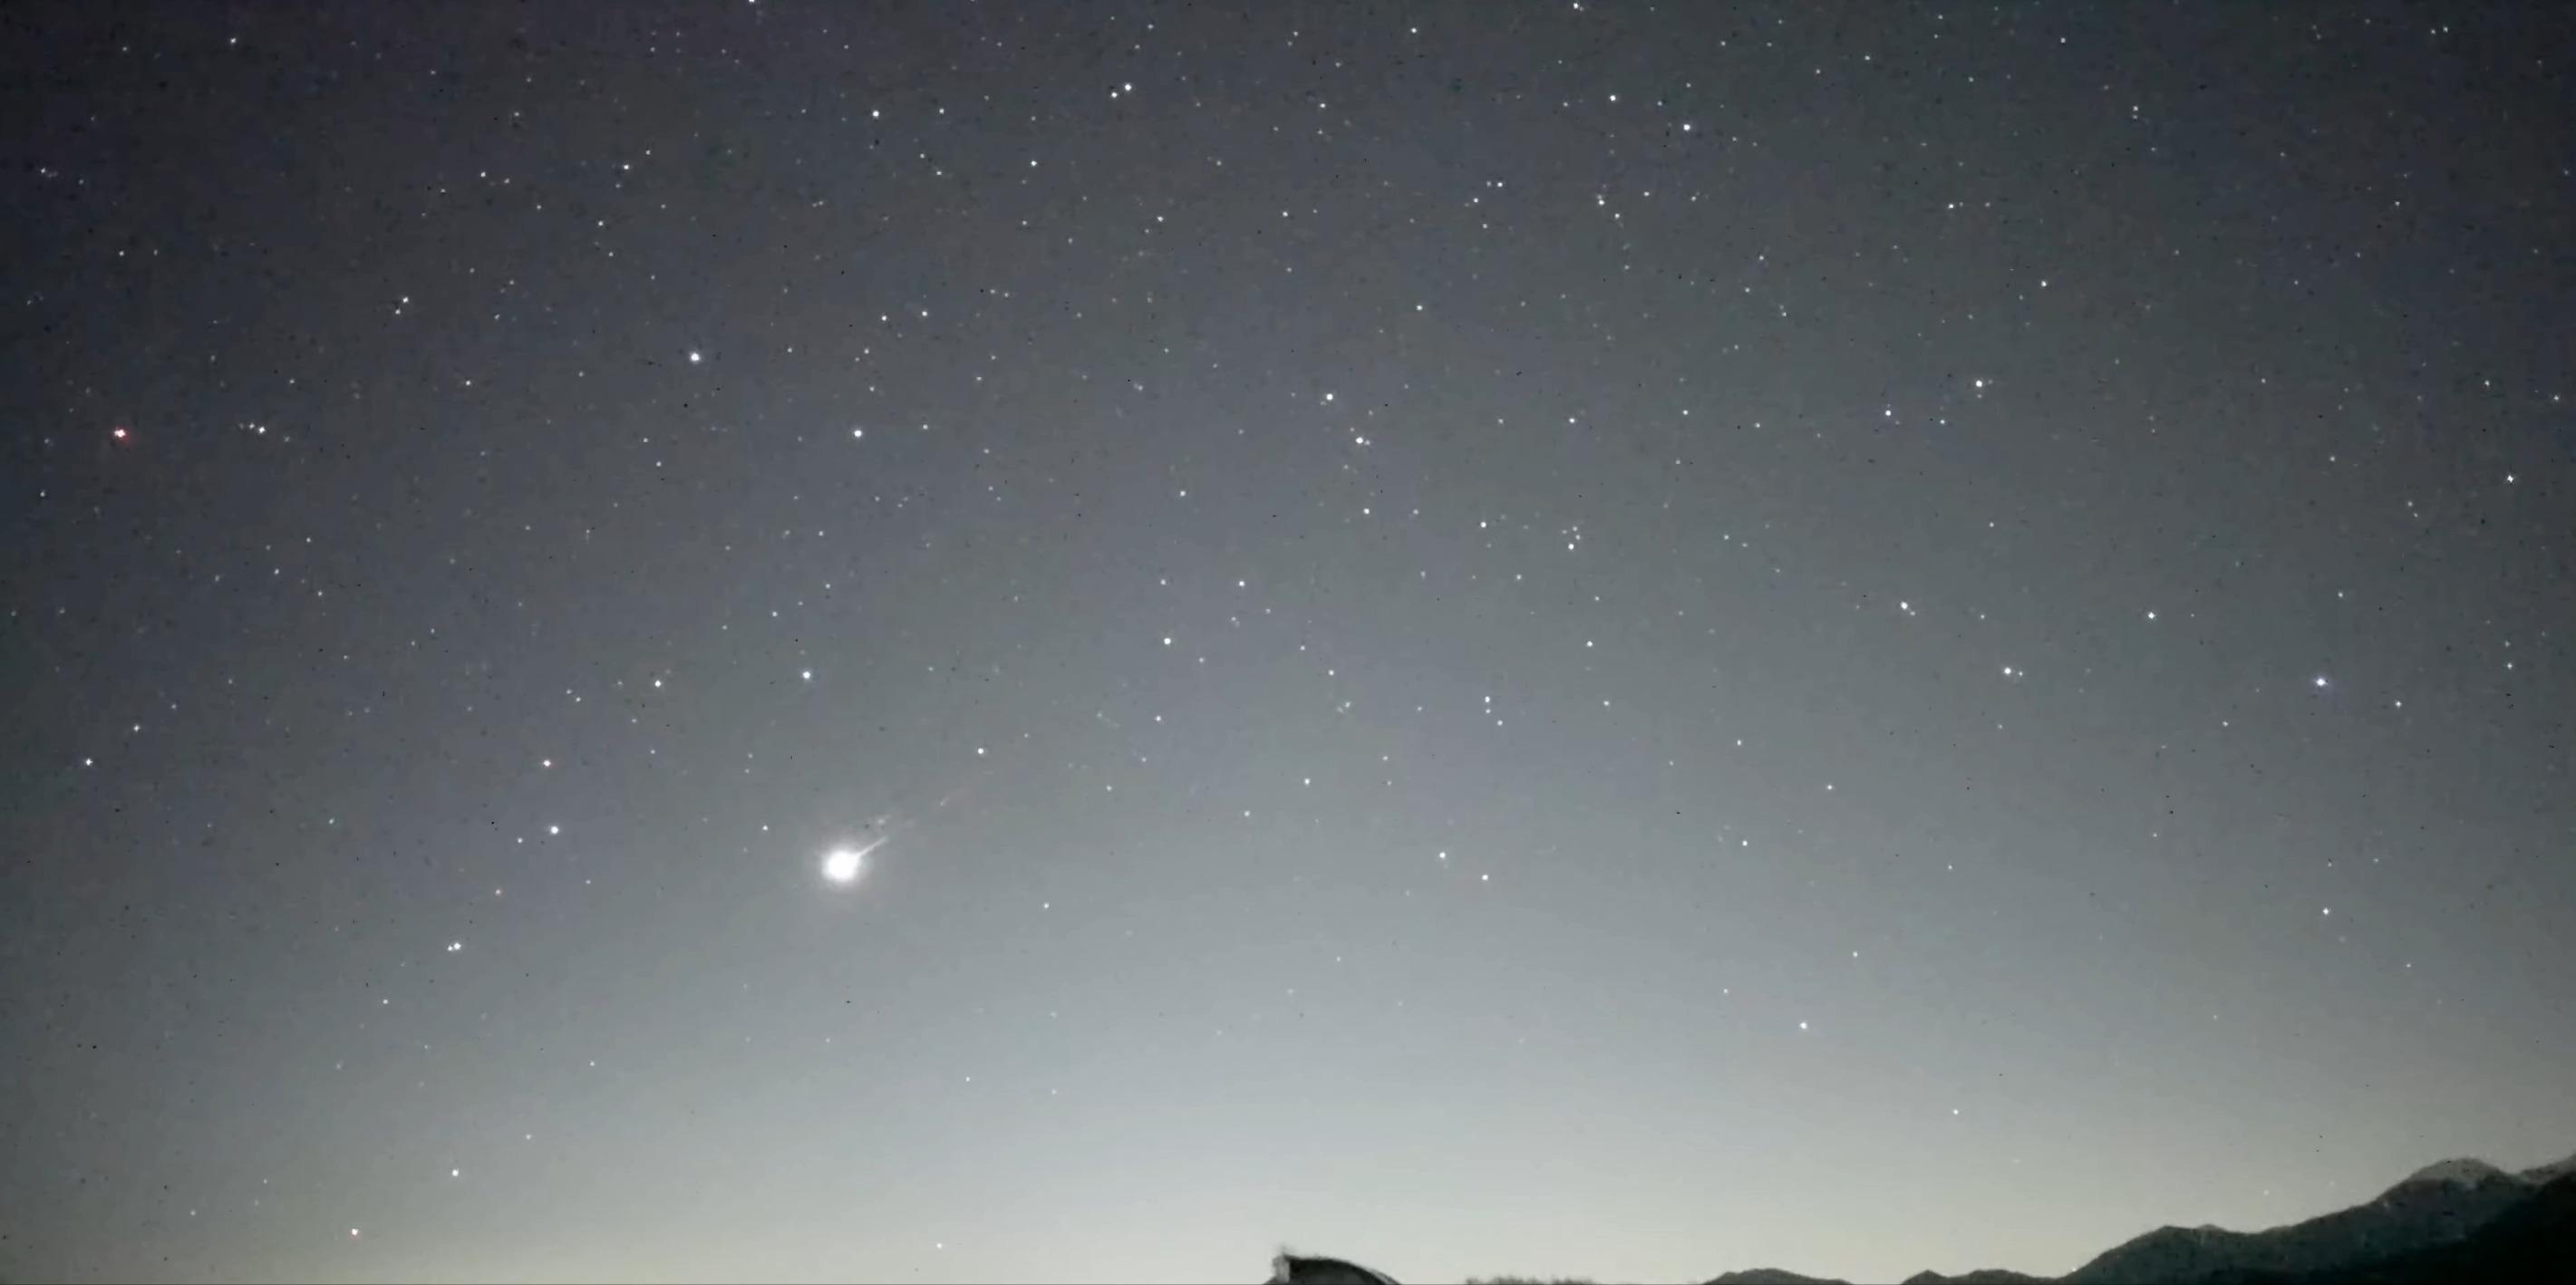Plane: (803, 753, 1025, 899), (102, 422, 140, 457)
